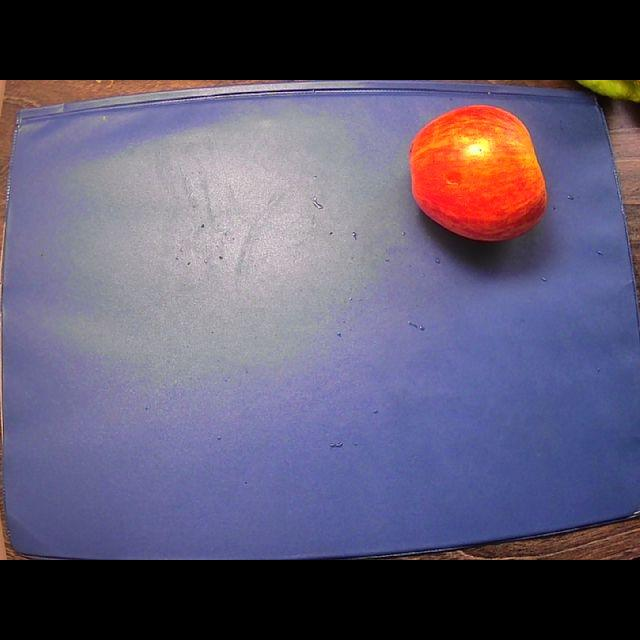manzana: (409, 105, 547, 241)
